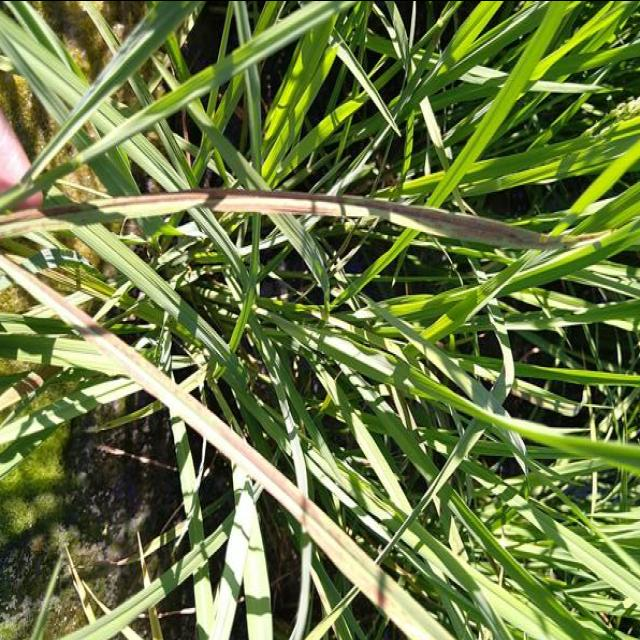Leaf Streak: (0, 188, 558, 250), (215, 418, 386, 604), (0, 256, 117, 339), (0, 364, 61, 410)
